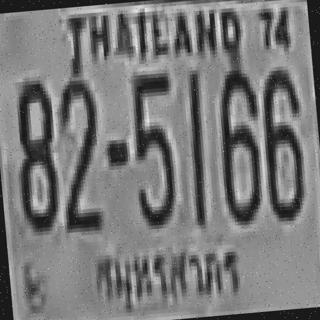N02: (54, 79, 106, 232)
N05: (127, 72, 182, 229)
N06: (214, 68, 267, 226), (258, 68, 308, 222)
N08: (12, 79, 62, 233)
P58: (86, 234, 249, 320)
